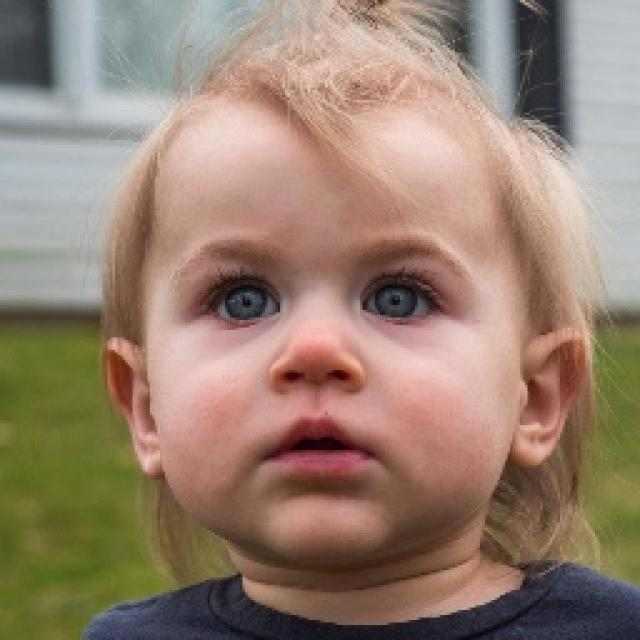earlobe: (504, 326, 592, 472), (102, 334, 168, 480)
